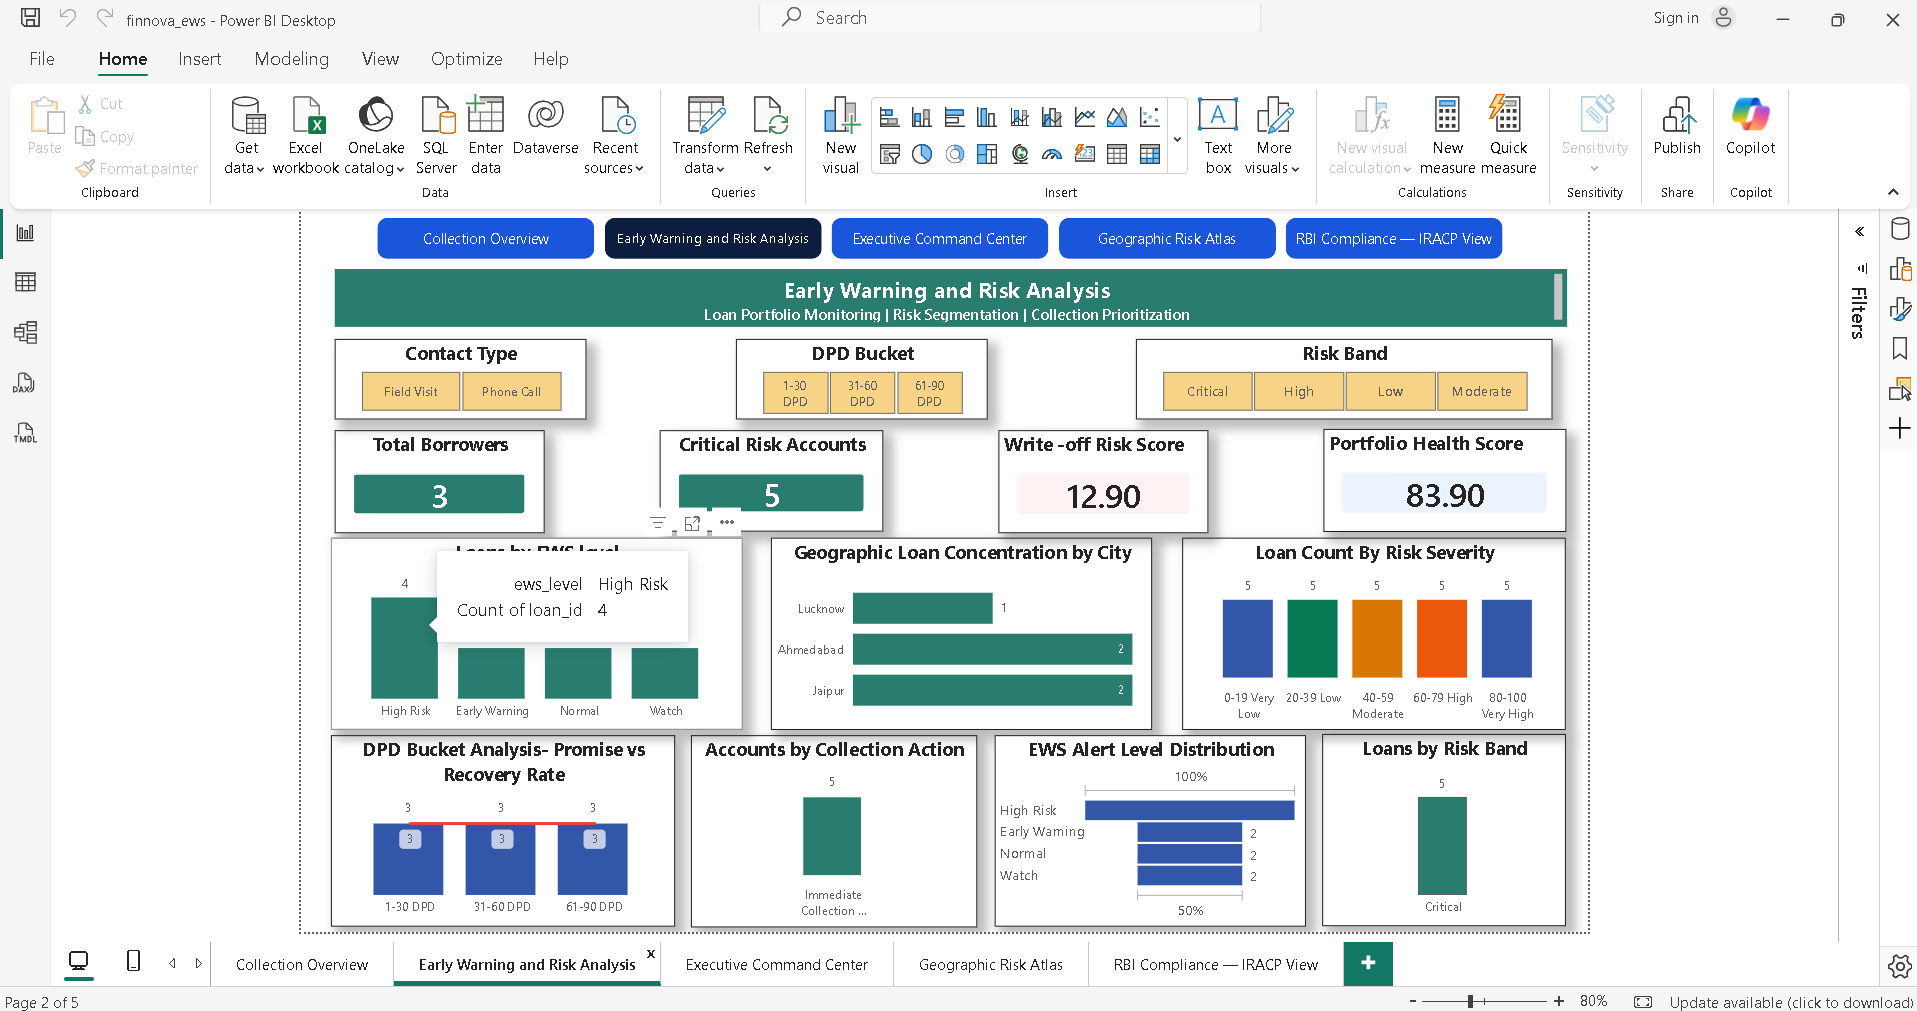

The dashboard page shown, as its layout file describes it:
{"tool":"powerbi","page":{"name":"Early Warning and Risk Analysis","canvas":[1280,720],"ordinal":1},"visuals":[{"type":"cardVisual","title":"Total Borrowers","fields":{"Data":["Count(public vw_collection_performance.customer_name)"]},"box":[33.3,220.2,209,102],"z":0},{"type":"cardVisual","title":"Critical Risk Accounts","fields":{"Data":["public vw_collection_channel.Critical Risk Accounts"]},"box":[356.9,220.2,222.7,100.8],"z":1000},{"type":"slicer","title":"DPD Bucket","fields":{"Values":["public vw_collection_performance.dpd_bucket"]},"box":[432.3,129.4,250,79.6],"z":2000},{"type":"slicer","title":"Risk Band","fields":{"Values":["public vw_ews_customer_loan.risk_band"]},"box":[831,129.4,414.2,79.6],"z":3000},{"type":"slicer","title":"Contact Type","fields":{"Values":["public vw_collection_performance.contact_type"]},"box":[33.6,129.4,250,79.6],"z":4000},{"type":"clusteredColumnChart","title":"Loans by Risk Band","fields":{"Category":["public vw_collection_performance.risk_band"],"Y":["CountNonNull(public vw_collection_performance.loan_id)"]},"box":[1016.3,522.5,242.6,191.6],"z":5000},{"type":"lineClusteredColumnComboChart","title":"DPD Bucket Analysis- Promise vs Recovery Rate","fields":{"Category":["public vw_collection_performance.dpd_bucket"],"Y":["CountNonNull(public vw_collection_priority.total_promised)"],"Y2":["CountNonNull(public vw_collection_priority.realization_pct)"]},"box":[29.9,523.7,342.1,190.3],"z":6000},{"type":"lineClusteredColumnComboChart","title":"Accounts by Collection Action","fields":{"Category":["public vw_collection_performance.collection_action"],"Y":["CountNonNull(public vw_collection_performance.collection_id)"]},"box":[388.5,523.7,284.9,191.6],"z":7000},{"type":"clusteredColumnChart","title":"Loans by EWS level","fields":{"Category":["public vw_ews_customer_loan.ews_level"],"Y":["CountNonNull(public vw_ews_customer_loan.loan_id)"]},"box":[29.6,326.9,409.3,191.6],"z":8000},{"type":"clusteredColumnChart","title":"Loan Count By Risk Severity","fields":{"Category":["public vw_ews_customer_loan.Risk Score Band"],"Y":["CountNonNull(public vw_collection_performance.loan_id)"]},"box":[877,327.2,381.9,191.6],"z":9000},{"type":"clusteredBarChart","title":"Geographic Loan Concentration by City","fields":{"Category":["public vw_collection_performance.city"],"Y":["CountNonNull(public vw_collection_performance.loan_id)"]},"box":[468.2,326.9,379.4,191.6],"z":10000},{"type":"cardVisual","title":"Write -off Risk Score","fields":{"Data":["public vw_ews_customer_loan.Write-off Risk Score %"]},"box":[694,220.2,209,102],"z":11000},{"type":"cardVisual","title":"Portfolio Health Score","fields":{"Data":["public vw_collection_performance.NPA Prevention Index"]},"box":[1017.6,218.9,241.3,102],"z":12000},{"type":"funnel","title":"EWS Alert Level Distribution","fields":{"Category":["public vw_ews_customer_loan.ews_level"],"Y":["CountNonNull(public vw_ews_customer_loan.loan_id)"]},"box":[690,523.7,309.7,190.3],"z":13000},{"type":"pageNavigator","box":[75.9,8.7,1122.1,41.1],"z":14000},{"type":"textbox","box":[33.8,60,1226.2,57.5],"z":15001}]}

Visuals, with their boxes on the page's 1280x720 design canvas (x1, y1, x2, y2). These are canvas units, not pixel positions in the 1917x1011 screenshot, which may show the page scaled, cropped or inside an application window:
"Total Borrowers" cardVisual: (left=33, top=220, right=242, bottom=322)
"Critical Risk Accounts" cardVisual: (left=357, top=220, right=580, bottom=321)
"DPD Bucket" slicer: (left=432, top=129, right=682, bottom=209)
"Risk Band" slicer: (left=831, top=129, right=1245, bottom=209)
"Contact Type" slicer: (left=34, top=129, right=284, bottom=209)
"Loans by Risk Band" clusteredColumnChart: (left=1016, top=522, right=1259, bottom=714)
"DPD Bucket Analysis- Promise vs Recovery Rate" lineClusteredColumnComboChart: (left=30, top=524, right=372, bottom=714)
"Accounts by Collection Action" lineClusteredColumnComboChart: (left=388, top=524, right=673, bottom=715)
"Loans by EWS level" clusteredColumnChart: (left=30, top=327, right=439, bottom=518)
"Loan Count By Risk Severity" clusteredColumnChart: (left=877, top=327, right=1259, bottom=519)
"Geographic Loan Concentration by City" clusteredBarChart: (left=468, top=327, right=848, bottom=518)
"Write -off Risk Score" cardVisual: (left=694, top=220, right=903, bottom=322)
"Portfolio Health Score" cardVisual: (left=1018, top=219, right=1259, bottom=321)
"EWS Alert Level Distribution" funnel: (left=690, top=524, right=1000, bottom=714)
pageNavigator: (left=76, top=9, right=1198, bottom=50)
textbox: (left=34, top=60, right=1260, bottom=118)
